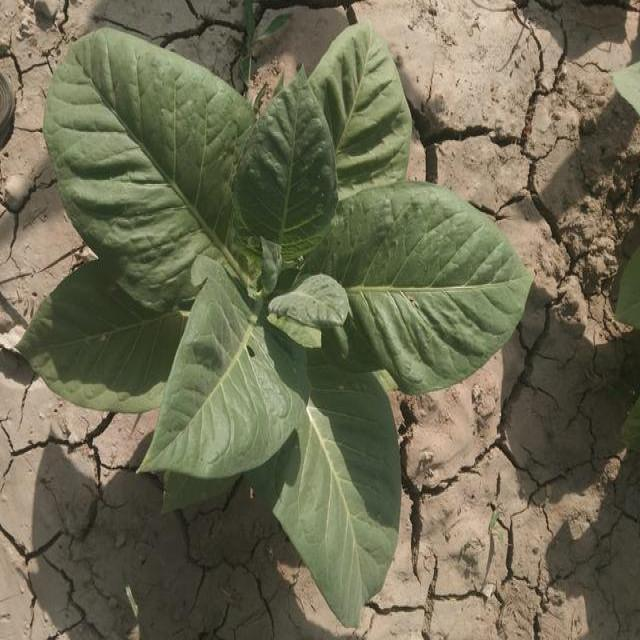crop: (34, 36, 524, 613)
